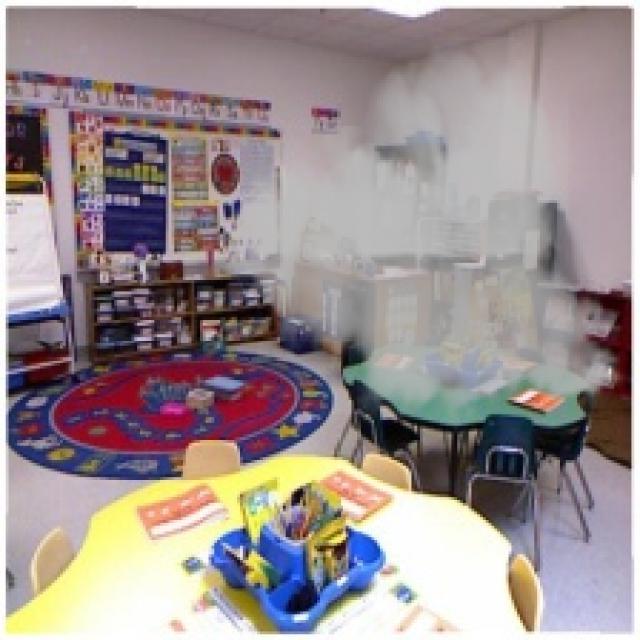Smoke: (208, 37, 634, 426)
